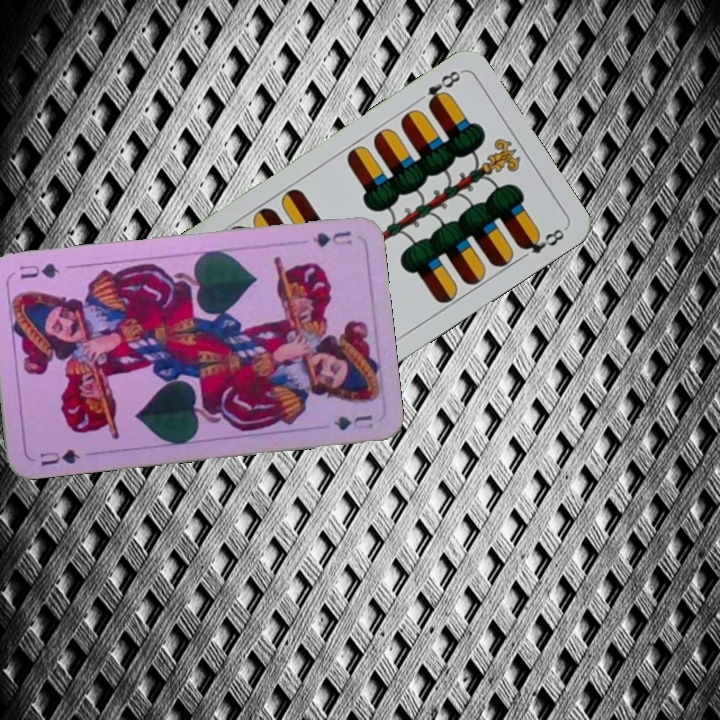E8: (422, 66, 464, 111)
GU: (35, 444, 83, 469), (308, 227, 355, 249)
